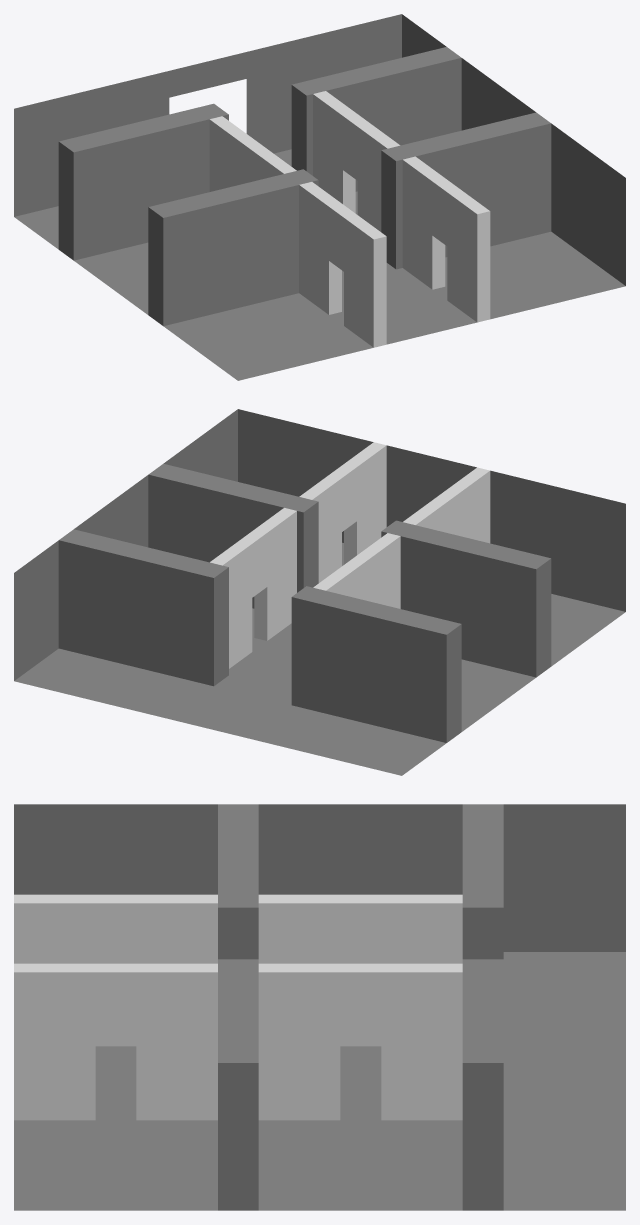
The model's file is dungeon_cell_collider.gltf.
3 renders of one model, top to bottom at view 1: azimuth 30°, elevation 25°; view 2: azimuth 150°, elevation 25°; view 3: azimuth 270°, elevation 25°, orthographic. The views are drawn at different scales.
Visible parts, largest first — view 1: ColliderWalls, ColliderCell2, ColliderCell1, ColliderCell4, ColliderCell3; view 2: ColliderWalls, ColliderCell4, ColliderCell2, ColliderCell1, ColliderCell3; view 3: ColliderWalls, ColliderCell4, ColliderCell2, ColliderCell3, ColliderCell1.
Boxes of the visible parts, x1,y1,x2,y2 form: ColliderWalls: [14, 14, 625, 380]; ColliderCell2: [402, 156, 490, 322]; ColliderCell1: [299, 182, 386, 347]; ColliderCell4: [313, 91, 400, 231]; ColliderCell3: [209, 116, 296, 191]; ColliderWalls: [14, 409, 625, 775]; ColliderCell4: [210, 508, 296, 668]; ColliderCell2: [299, 442, 386, 582]; ColliderCell1: [403, 467, 490, 543]; ColliderCell3: [313, 533, 400, 608]; ColliderWalls: [14, 804, 625, 1210]; ColliderCell4: [258, 963, 462, 1120]; ColliderCell2: [14, 963, 217, 1120]; ColliderCell3: [258, 894, 462, 963]; ColliderCell1: [14, 894, 217, 963].
Size of the model in its own units: 15 by 4 by 15.
1 material, 1 textured.
